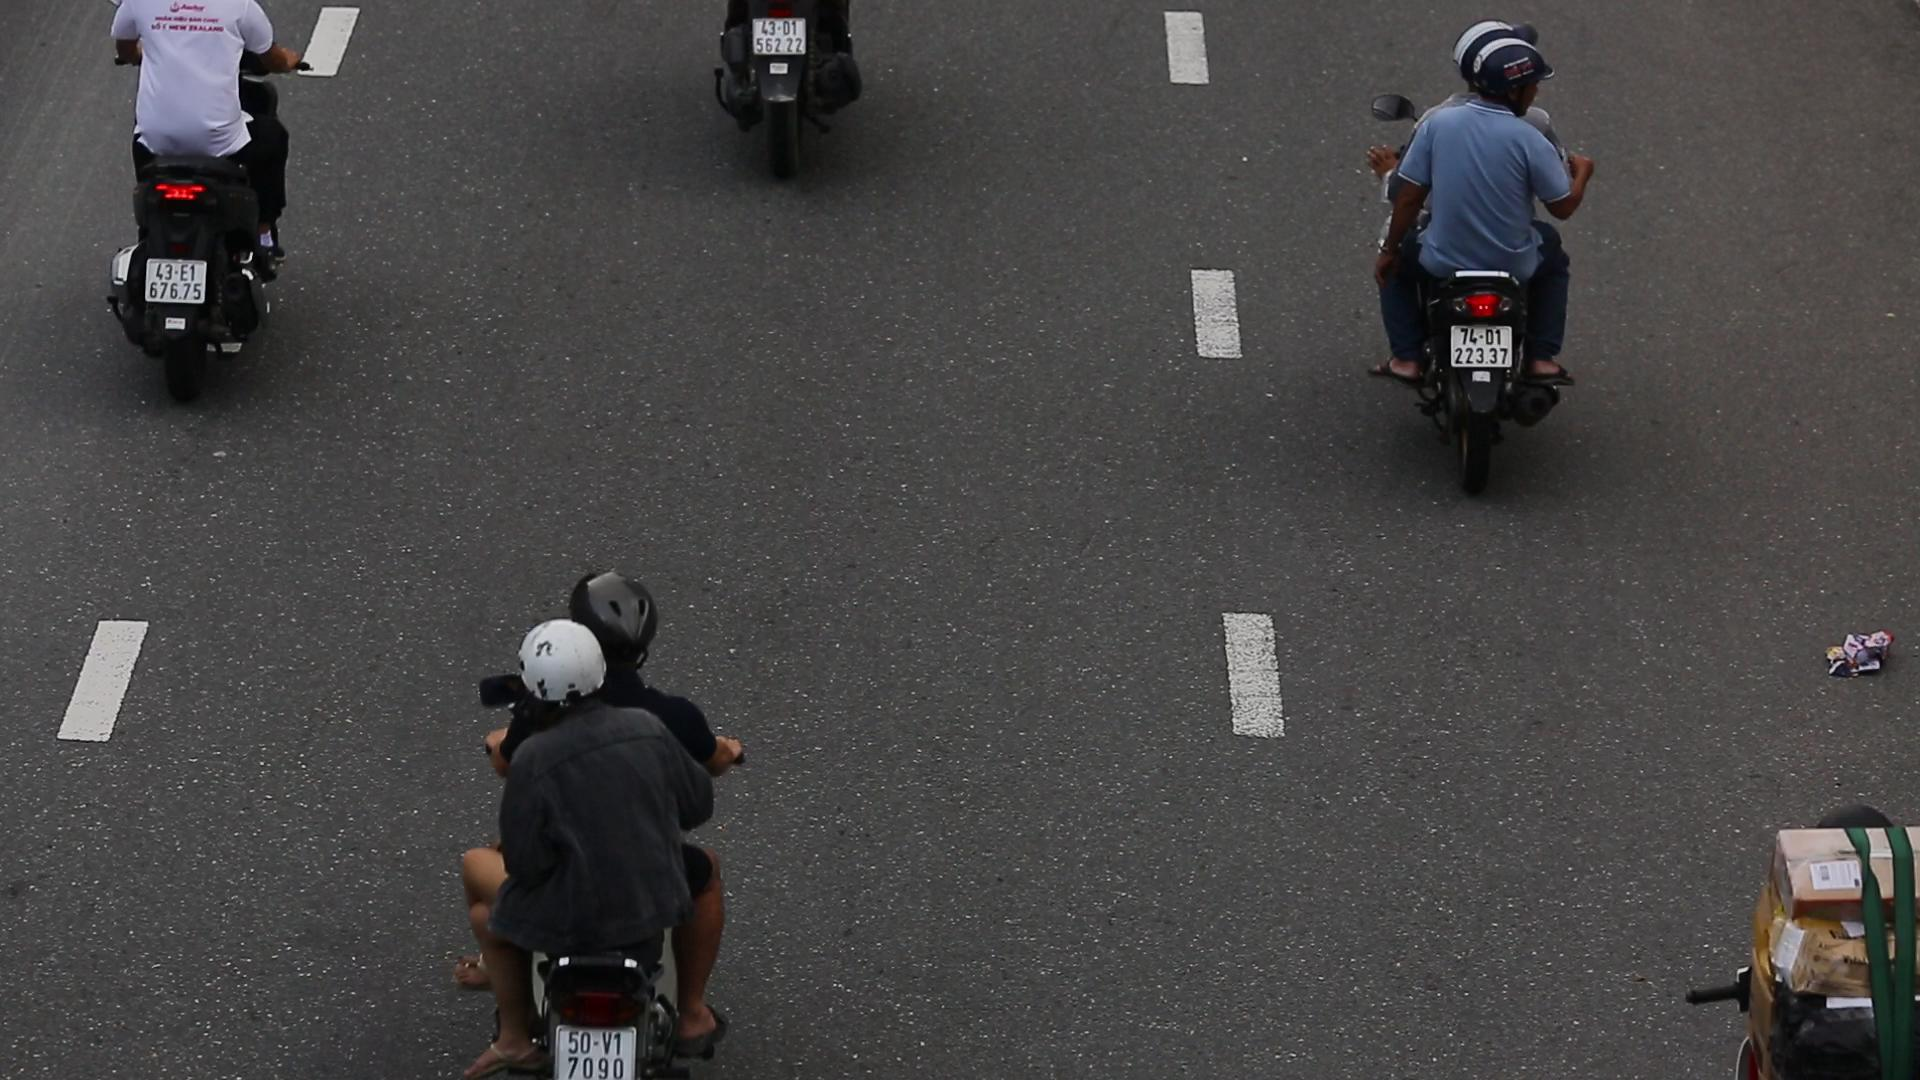motobike: (423, 556, 774, 1080), (1358, 0, 1601, 535)
